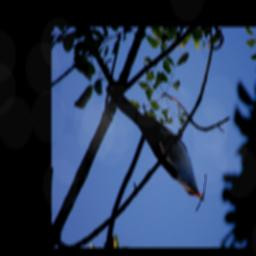Cuckoo: (117, 98, 206, 203)
